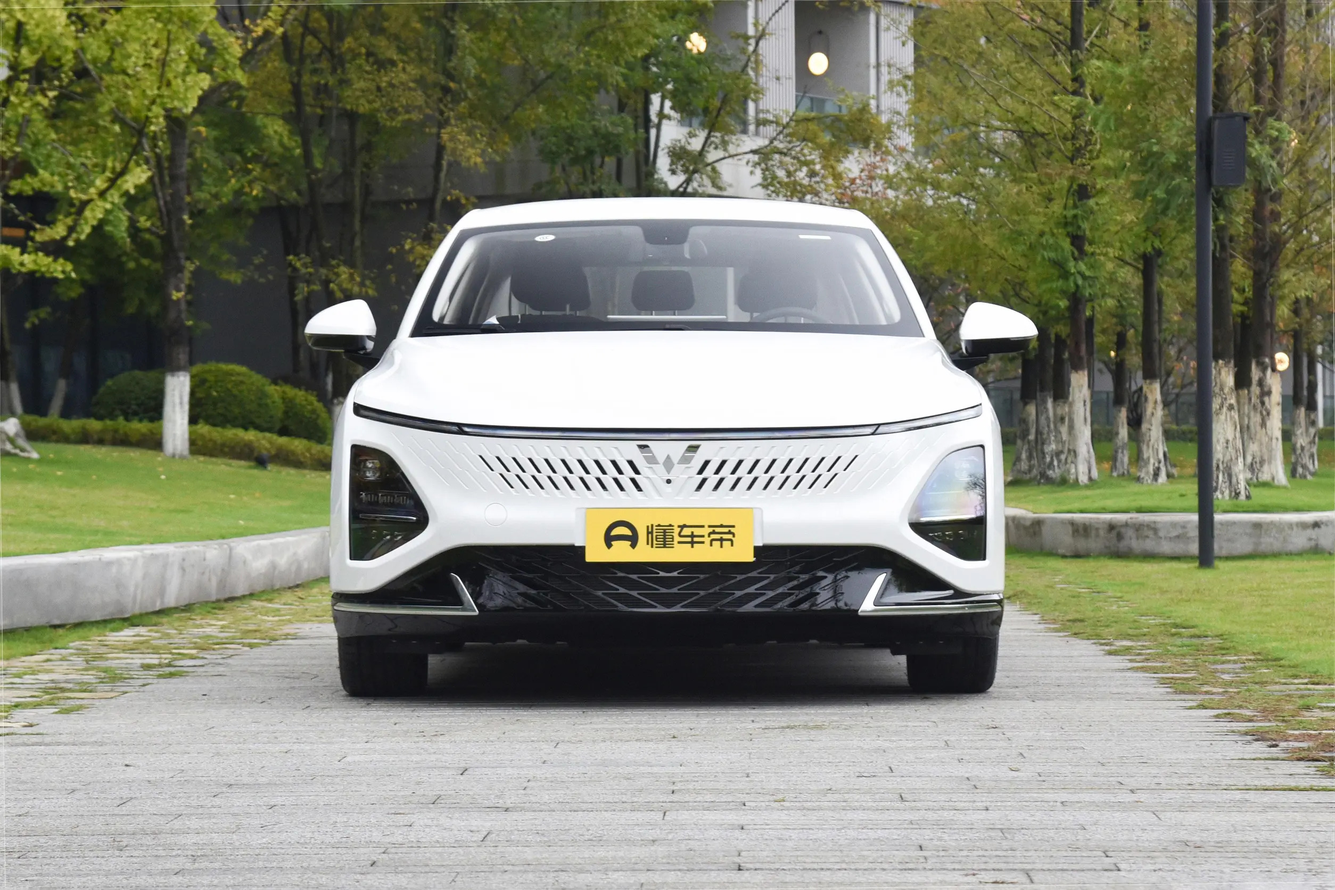SGMW: (637, 444, 701, 474)
